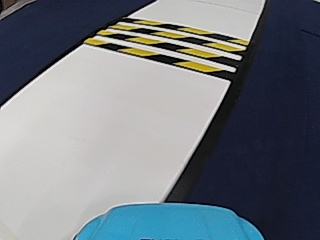bump: (112, 19, 234, 79)
